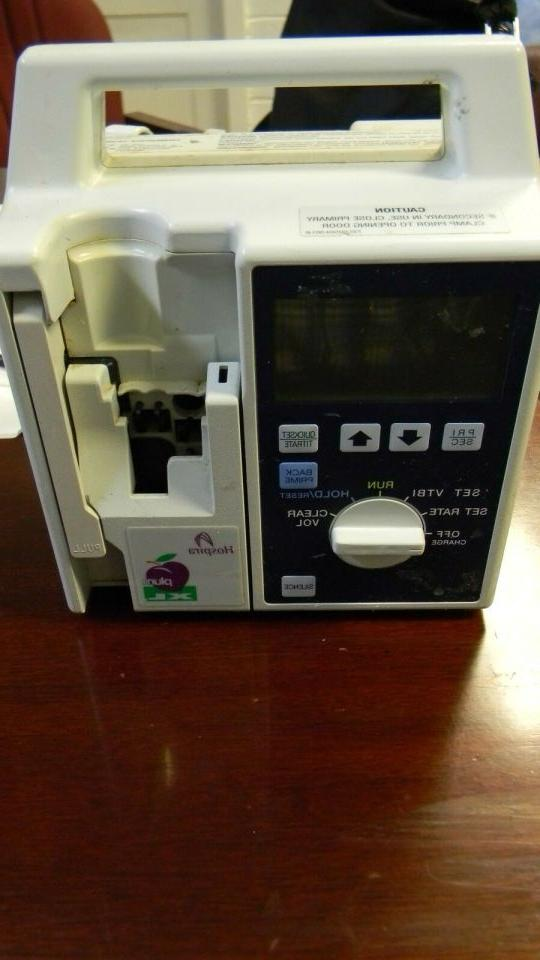plumxl1: (9, 38, 540, 620)
